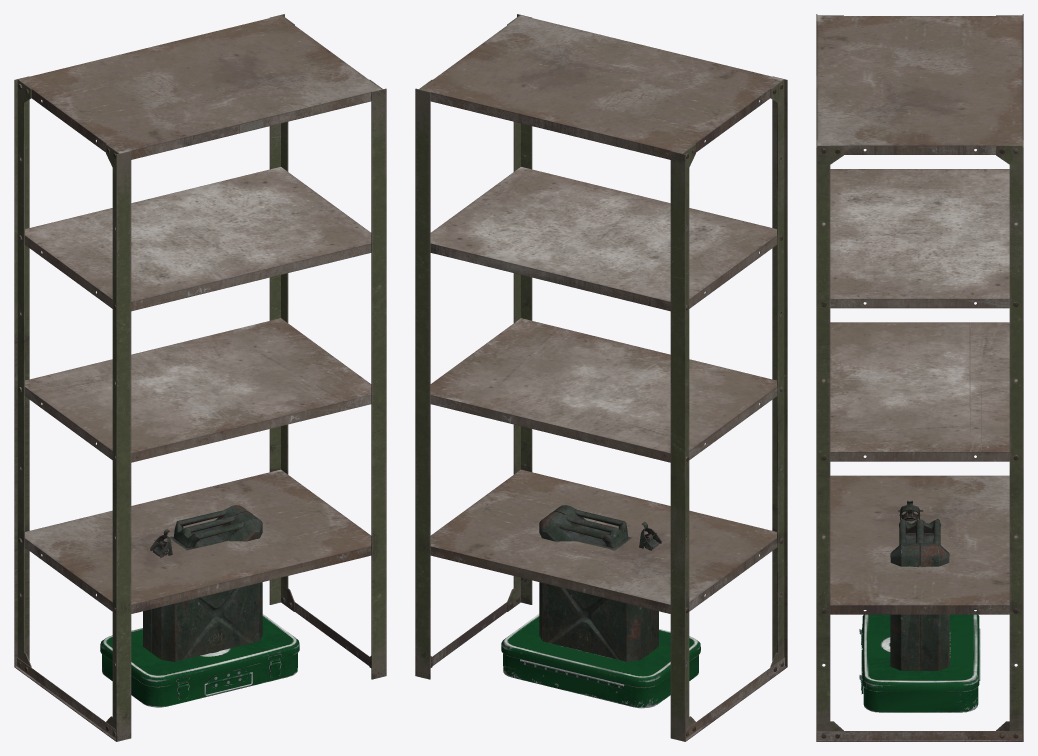
The model's file is cover_rack.gltf.
The picture shows the model from 3 angles, left to right: view 1: azimuth 30°, elevation 25°; view 2: azimuth 150°, elevation 25°; view 3: azimuth 270°, elevation 25°; orthographic projection.
Parts seen in each view (by area): view 1: rack, jerrycan, medicalBox; view 2: rack, jerrycan, medicalBox; view 3: rack, medicalBox, jerrycan.
Boxes of the visible parts, x1,y1,x2,y2 form: rack: (14, 14, 386, 741); jerrycan: (143, 505, 262, 661); medicalBox: (100, 614, 299, 707); rack: (415, 14, 787, 741); jerrycan: (539, 505, 661, 661); medicalBox: (501, 614, 700, 708); rack: (816, 14, 1023, 741); medicalBox: (859, 614, 980, 712); jerrycan: (890, 500, 949, 670).
Size of the model in its own units: 0.9154 by 1.9 by 0.6.
Materials: 3 (3 with a texture image).
